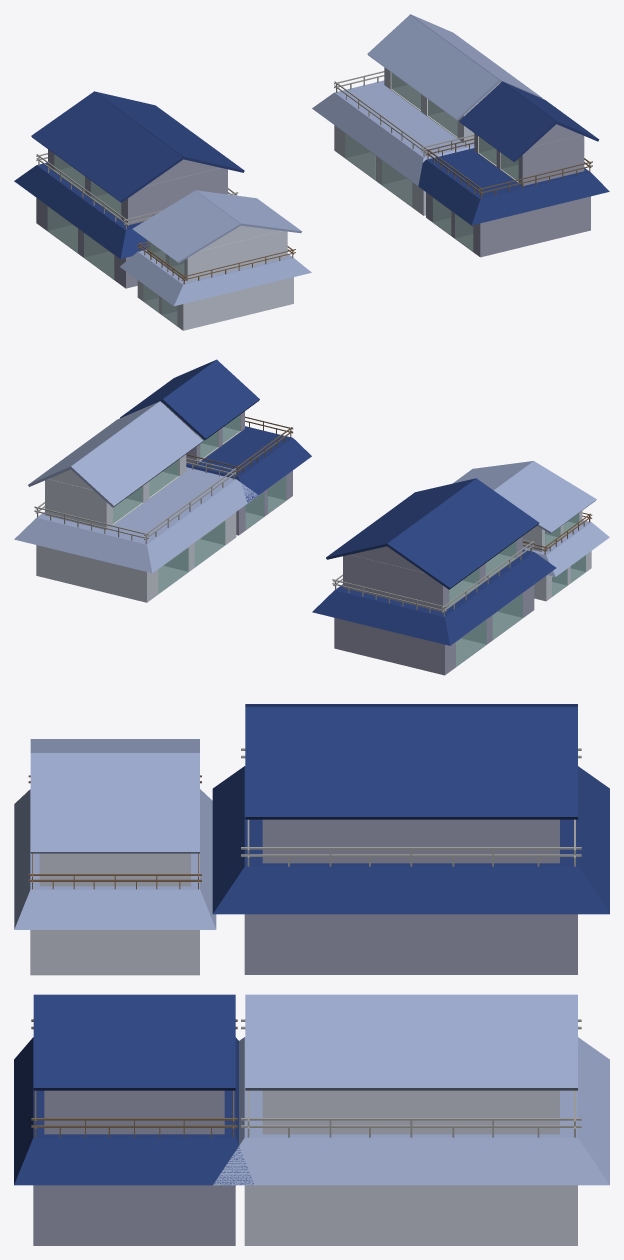
Rendered from kamo.fbx.
3 views of the same model, one above another, from view 1: azimuth 30°, elevation 25°; view 2: azimuth 150°, elevation 25°; view 3: azimuth 270°, elevation 25° (orthographic). The views are drawn at different scales.
Parts seen in each view (by area): view 1: pCube70, pCube68, pCube61, pCube81, pCube49, pCube53, pCube73, pCube52, pCube74, pCube71, pCube51, pCube50 (+2 smaller); view 2: pCube70, pCube61, pCube68, pCube81, pCube49, pCube71, pCube53, pCube74, pCube73, pCube52, pCube50, pCube51 (+2 smaller); view 3: pCube70, pCube61, pCube68, pCube81, pCube49, pCube71.
Boxes of the visible parts, <box> form: pCube70: <box>14,91,244,288</box>; pCube68: <box>418,81,609,257</box>; pCube61: <box>312,14,542,215</box>; pCube81: <box>120,190,311,330</box>; pCube49: <box>334,71,474,156</box>; pCube53: <box>381,160,412,206</box>; pCube73: <box>84,233,114,279</box>; pCube52: <box>345,134,375,180</box>; pCube74: <box>47,206,77,252</box>; pCube71: <box>36,153,238,229</box>; pCube51: <box>428,99,457,136</box>; pCube50: <box>391,73,420,109</box>; pCube70: <box>312,478,556,675</box>; pCube61: <box>14,401,258,602</box>; pCube68: <box>120,359,311,535</box>; pCube81: <box>453,461,609,601</box>; pCube49: <box>34,458,236,543</box>; pCube71: <box>332,540,534,616</box>; pCube53: <box>194,521,225,566</box>; pCube74: <box>456,620,486,666</box>; pCube73: <box>492,593,522,639</box>; pCube52: <box>158,547,188,593</box>; pCube50: <box>113,486,142,523</box>; pCube51: <box>149,460,178,496</box>; pCube70: <box>212,704,609,974</box>; pCube61: <box>213,994,609,1245</box>; pCube68: <box>14,994,253,1245</box>; pCube81: <box>14,739,216,975</box>; pCube49: <box>241,1019,581,1137</box>; pCube71: <box>241,748,581,866</box>.
Bounding box in the file's own units: 36 × 9.31 × 22.85.
